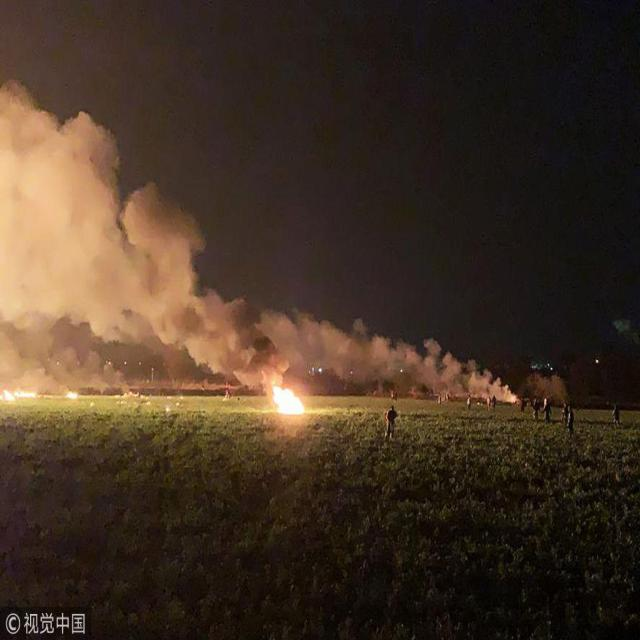fire: (265, 375, 311, 418), (1, 382, 36, 405), (63, 386, 81, 409)
smoke: (8, 100, 268, 378), (287, 306, 509, 402)
